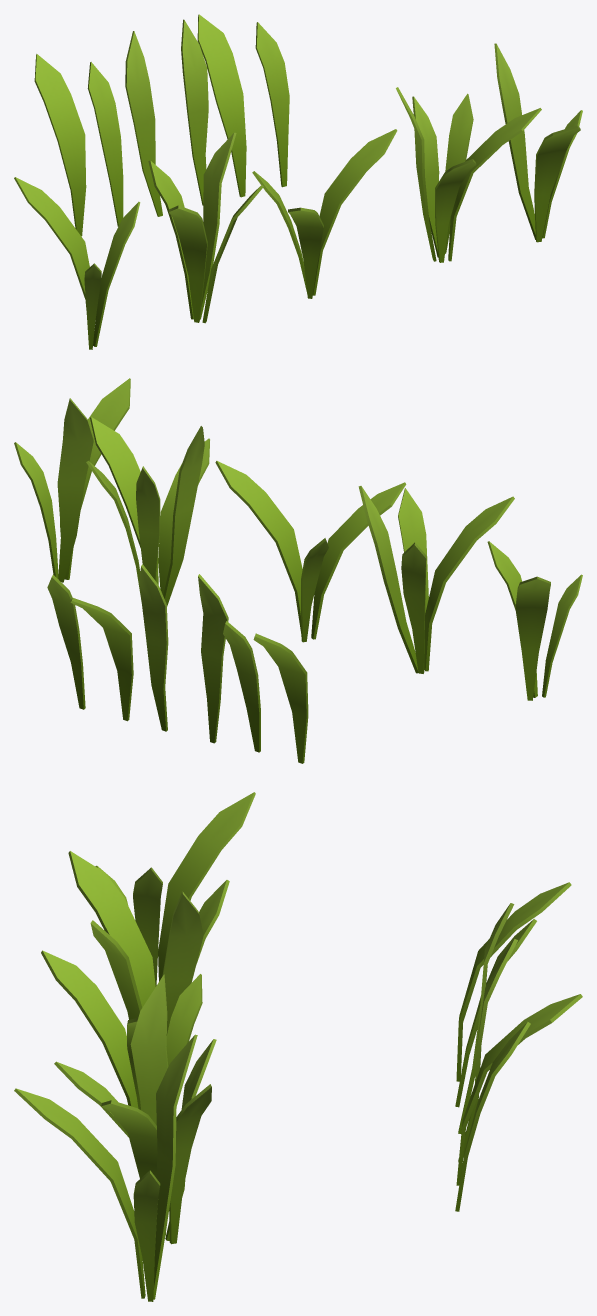
The model's file is Grass.glb.
3 views of the same model, one above another, from view 1: azimuth 30°, elevation 25°; view 2: azimuth 150°, elevation 25°; view 3: azimuth 270°, elevation 25° (orthographic). The views are drawn at different scales.
Parts seen in each view (by area): view 1: Grass.019, Grass.012, Grass.013, Grass.008, Grass.007, Grass, Grass.003, Grass.005, Grass.002, Grass.001, Grass.004; view 2: Grass.019, Grass.012, Grass.013, Grass.008, Grass.007, Grass.005, Grass.002, Grass, Grass.003, Grass.001, Grass.004; view 3: Grass.019, Grass.012, Grass.013, Grass.008, Grass.007, Grass, Grass.003, Grass.004, Grass.002, Grass.005, Grass.001.
Part boxes in pixels (x1,y1,x2,y2): Grass.019: (396, 87, 541, 262); Grass.012: (148, 132, 263, 323); Grass.013: (494, 43, 582, 242); Grass.008: (252, 129, 397, 298); Grass.007: (14, 177, 140, 349); Grass: (34, 54, 86, 236); Grass.003: (197, 14, 246, 197); Grass.005: (125, 31, 162, 216); Grass.002: (181, 19, 208, 205); Grass.001: (87, 62, 123, 226); Grass.004: (255, 22, 289, 187); Grass.019: (86, 417, 209, 606); Grass.012: (358, 486, 514, 673); Grass.013: (14, 378, 130, 582); Grass.008: (215, 461, 406, 642); Grass.007: (487, 541, 582, 700); Grass.005: (198, 574, 228, 743); Grass.002: (139, 564, 168, 731); Grass: (253, 633, 308, 763); Grass.003: (70, 598, 133, 721); Grass.001: (223, 621, 260, 752); Grass.004: (47, 574, 85, 709); Grass.019: (54, 974, 216, 1244); Grass.012: (68, 851, 229, 1035); Grass.013: (14, 1034, 197, 1301); Grass.008: (41, 950, 202, 1109); Grass.007: (95, 792, 255, 986); Grass: (456, 882, 571, 1081); Grass.003: (456, 994, 582, 1185); Grass.004: (455, 1022, 530, 1211); Grass.002: (458, 939, 517, 1161); Grass.005: (458, 903, 514, 1133); Grass.001: (455, 919, 536, 1107).
Size of the model in its own units: 2.59 by 0.8907 by 1.85.
Materials: 1 (1 with a texture image).
